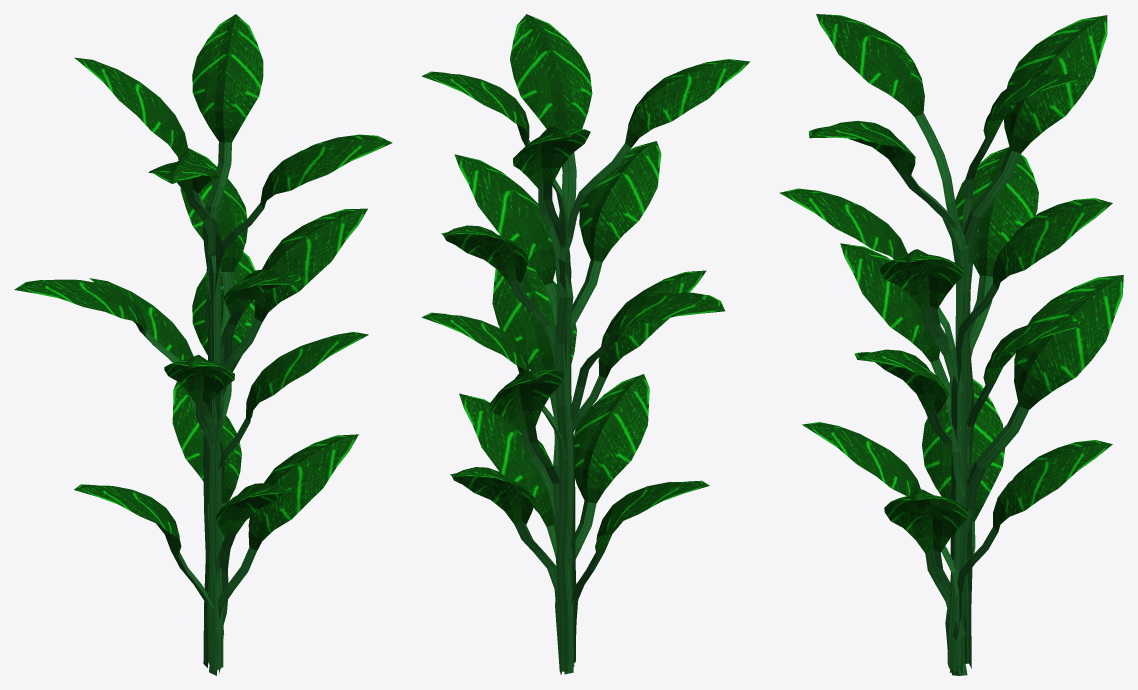
The model's file is plant02.glb.
3 renders of one model, left to right at view 1: azimuth 30°, elevation 25°; view 2: azimuth 150°, elevation 25°; view 3: azimuth 270°, elevation 25°, orthographic. The views are drawn at different scales.
Visible parts, largest first — view 1: Sphere.027, Sphere.022, Sphere.014, Sphere.023, Sphere.026, Sphere.025, Sphere.018, Sphere.021, Sphere.015, Sphere.020, Sphere.013, Sphere.017 (+4 smaller); view 2: Sphere.026, Sphere.016, Sphere.024, Sphere.028, Sphere.022, Sphere.018, Sphere.025, Sphere.014, Sphere.023, Sphere.017, Sphere.021, Sphere.015 (+4 smaller); view 3: Sphere.025, Sphere.017, Sphere.028, Sphere.021, Sphere.023, Sphere.020, Sphere.015, Sphere.013, Sphere.014, Sphere.022, Sphere.024, Sphere.026 (+4 smaller).
Part boxes in pixels (left/top/right/bottom): Sphere.027: left=192, top=14, right=263, bottom=591; Sphere.022: left=209, top=208, right=367, bottom=444; Sphere.014: left=209, top=434, right=358, bottom=675; Sphere.023: left=180, top=148, right=247, bottom=664; Sphere.026: left=203, top=134, right=392, bottom=663; Sphere.025: left=74, top=57, right=221, bottom=670; Sphere.018: left=203, top=332, right=368, bottom=667; Sphere.021: left=14, top=279, right=214, bottom=436; Sphere.015: left=172, top=381, right=241, bottom=634; Sphere.020: left=164, top=354, right=234, bottom=490; Sphere.013: left=74, top=484, right=220, bottom=673; Sphere.017: left=89, top=278, right=223, bottom=668; Sphere.026: left=510, top=14, right=592, bottom=665; Sphere.016: left=574, top=374, right=649, bottom=558; Sphere.024: left=570, top=141, right=661, bottom=340; Sphere.028: left=558, top=59, right=750, bottom=375; Sphere.022: left=454, top=154, right=572, bottom=427; Sphere.018: left=492, top=263, right=576, bottom=671; Sphere.025: left=513, top=126, right=590, bottom=666; Sphere.014: left=459, top=393, right=573, bottom=674; Sphere.023: left=441, top=225, right=576, bottom=662; Sphere.017: left=489, top=369, right=575, bottom=661; Sphere.021: left=569, top=292, right=724, bottom=418; Sphere.015: left=450, top=467, right=556, bottom=598; Sphere.025: left=953, top=15, right=1107, bottom=674; Sphere.017: left=947, top=275, right=1123, bottom=671; Sphere.028: left=816, top=14, right=968, bottom=666; Sphere.021: left=955, top=147, right=1038, bottom=429; Sphere.023: left=950, top=198, right=1112, bottom=578; Sphere.020: left=840, top=243, right=966, bottom=497; Sphere.015: left=953, top=440, right=1112, bottom=639; Sphere.013: left=922, top=379, right=1004, bottom=675; Sphere.014: left=884, top=489, right=967, bottom=672; Sphere.022: left=879, top=249, right=963, bottom=425; Sphere.024: left=779, top=188, right=963, bottom=392; Sphere.026: left=809, top=120, right=974, bottom=661.
Bounding box in the file's own units: 3.83 × 7.11 × 3.49.
Materials: 2 (2 with a texture image).
